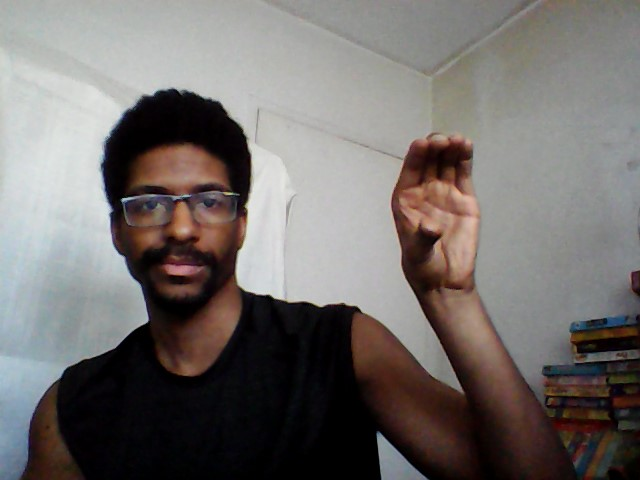c: (388, 126, 484, 294)
